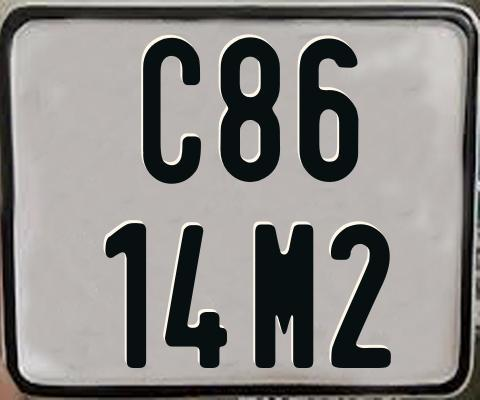1: (103, 223, 146, 373)
2: (331, 224, 396, 368)
4: (165, 223, 228, 368)
6: (298, 38, 360, 185)
8: (218, 37, 278, 188)
C: (142, 38, 204, 184)
M: (254, 222, 317, 368)
